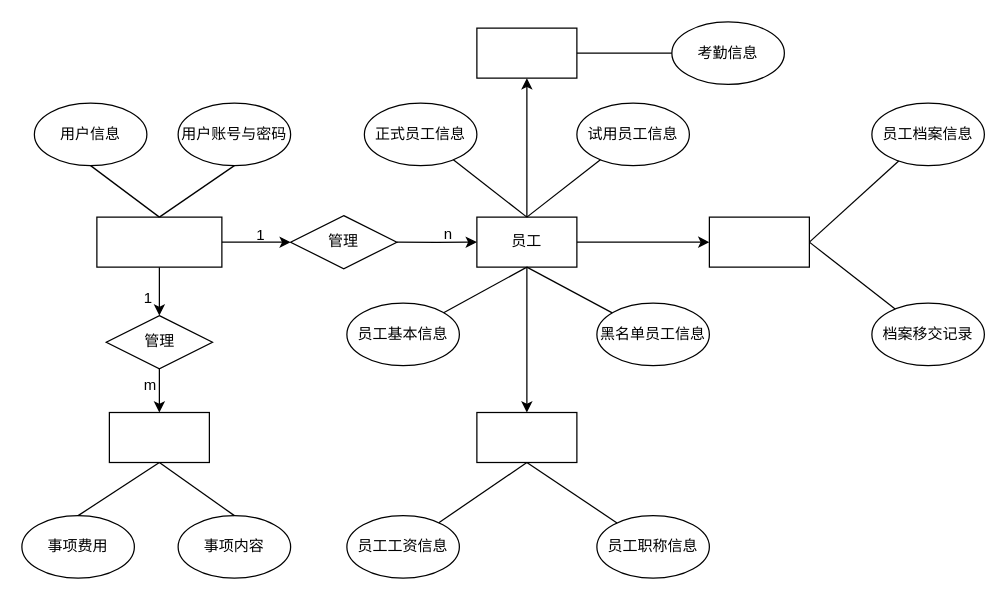
Some shapes in this 1006 by 600 pixel diagram are drawn without their labels. The centre of each missing label's shape, as x and y in pixels:
公司事项: the point at 158,436
工资: the point at 526,436
档案: the point at 758,241
用户（管理员）: the point at 159,241
考勤: the point at 526,52
